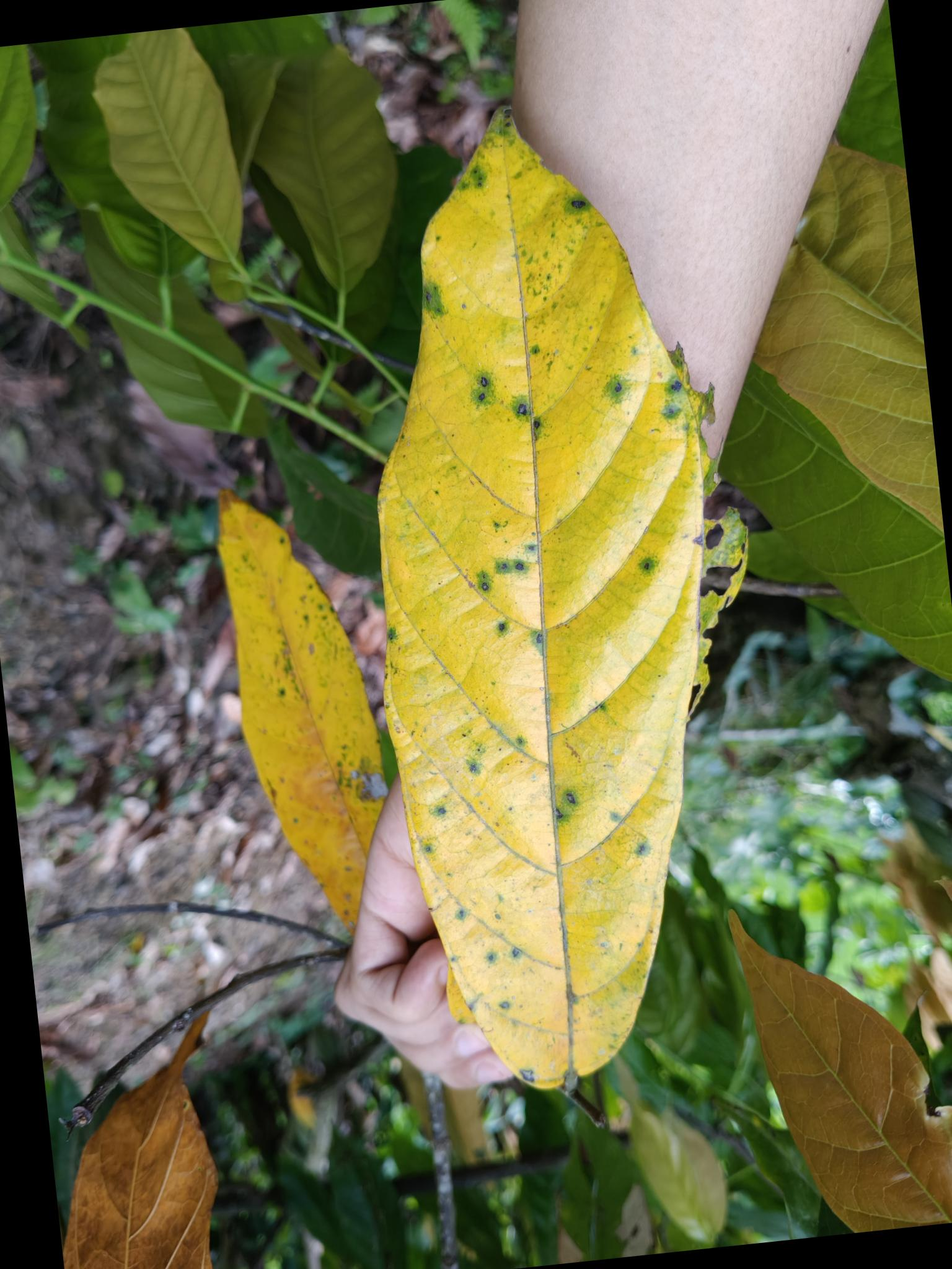Fosforo: (370, 108, 708, 1123)
